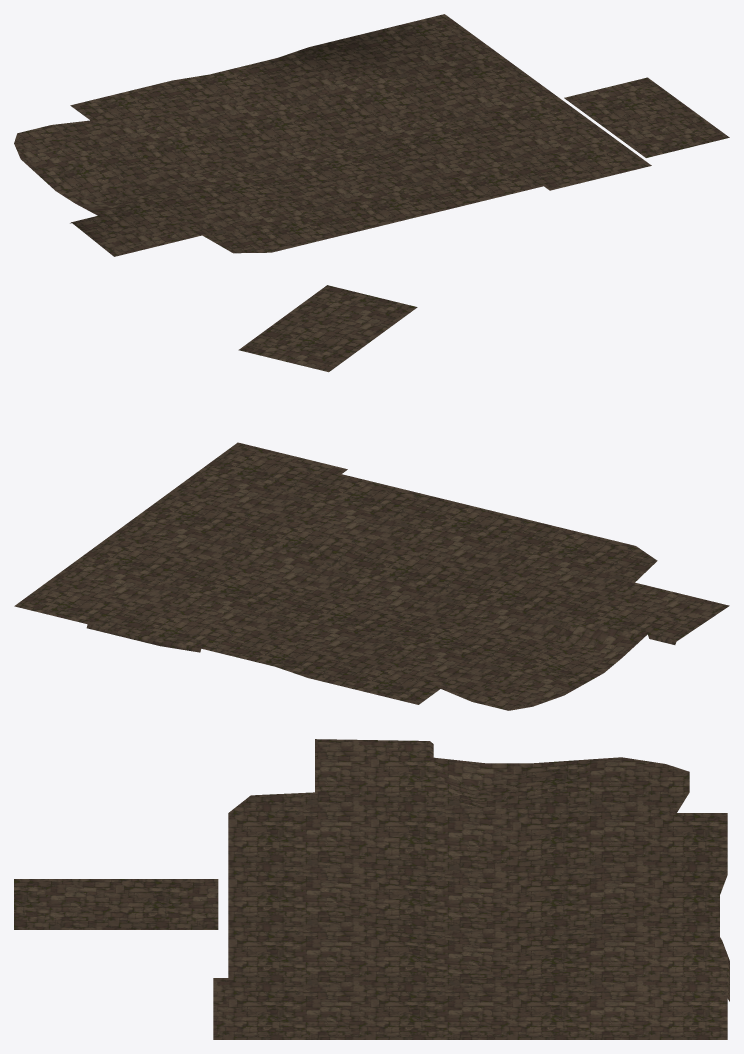
Rendered from slsd_dimian1_01.FBX.
3 views of the same model, one above another, from view 1: azimuth 30°, elevation 25°; view 2: azimuth 150°, elevation 25°; view 3: azimuth 270°, elevation 25° (orthographic). The views are drawn at different scales.
Parts seen in each view (by area): view 1: slsd_dimian1_01; view 2: slsd_dimian1_01; view 3: slsd_dimian1_01.
Boxes of the visible parts, x1,y1,x2,y2 form: slsd_dimian1_01: (14, 14, 729, 256); slsd_dimian1_01: (14, 285, 729, 710); slsd_dimian1_01: (14, 739, 729, 1039).
Size of the model in its own units: 5648 by 5684 by 1036.
